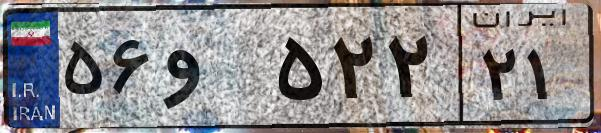1: (525, 38, 570, 115)
2: (385, 28, 445, 110), (330, 28, 385, 110), (475, 38, 525, 113)
5: (270, 28, 330, 110), (57, 26, 110, 100)
6: (110, 28, 158, 98)
و: (158, 20, 270, 120)
